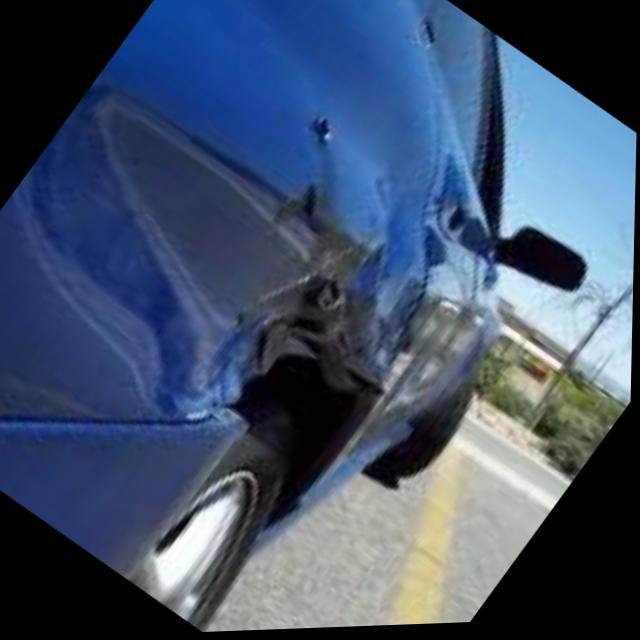dent: (159, 241, 421, 509)
